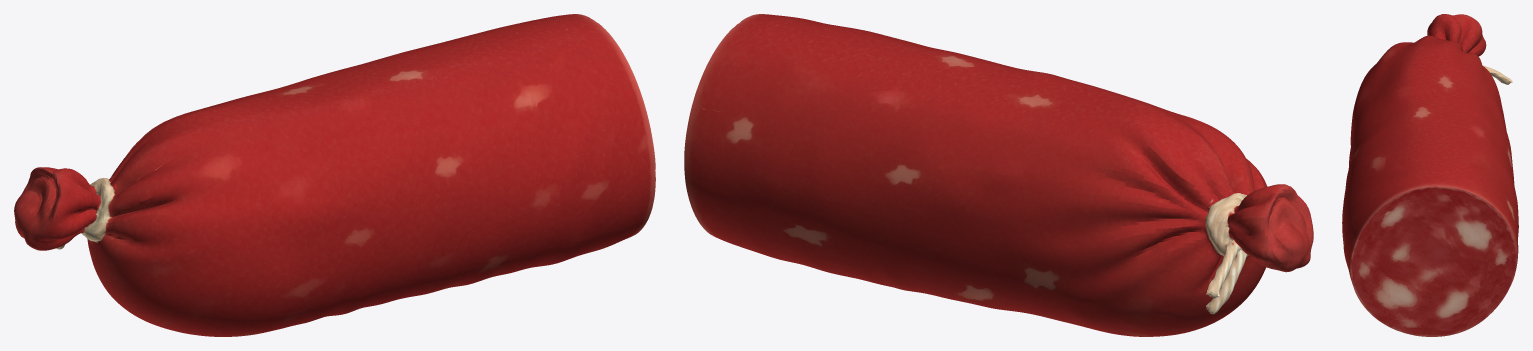
Rendered from Meshy_AI_Tied_Salami_1122031417_texture.glb.
The picture shows the model from 3 angles, left to right: view 1: azimuth 30°, elevation 25°; view 2: azimuth 150°, elevation 25°; view 3: azimuth 270°, elevation 25°; orthographic projection. The views are drawn at different scales.
Visible parts, largest first — view 1: Mesh0; view 2: Mesh0; view 3: Mesh0.
Part boxes in pixels (x1,y1,x2,y2): Mesh0: (14,14,655,336); Mesh0: (684,14,1313,336); Mesh0: (1342,14,1518,336).
Bounding box in the file's own units: 1.9 × 0.676 × 0.703.
Materials: 1 (1 with a texture image).
